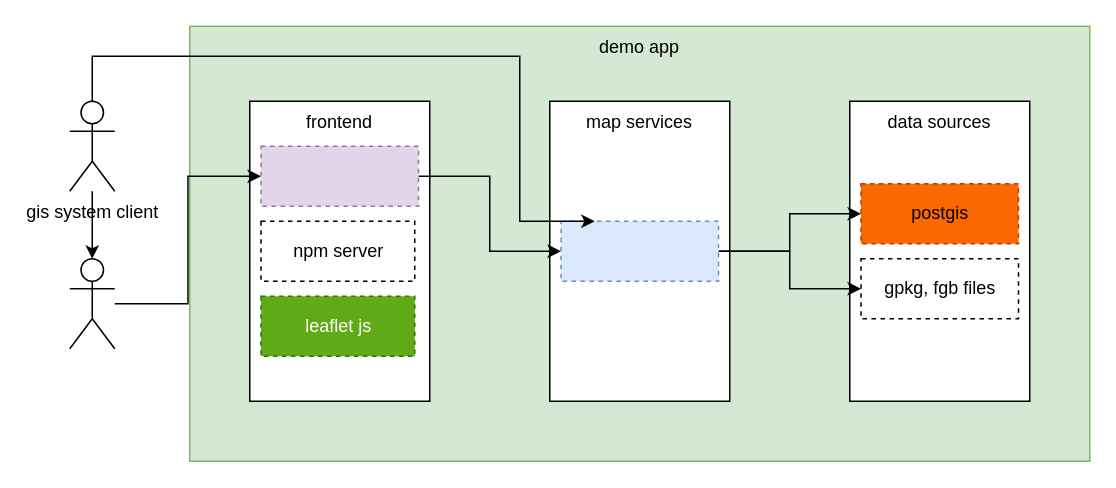
Some shapes in this 1116 by 488 pixel diagram are drawn without their labels. The centre of each missing label's shape, as x and y in pixels:
geoserver: [639,250]
react app: [339,175]
web app client: [91,303]
